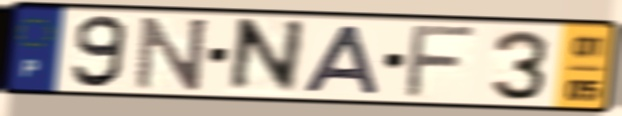3: (489, 27, 552, 102)
9: (71, 13, 130, 90)
A: (299, 22, 384, 97)
F: (401, 24, 483, 100)
N: (222, 16, 309, 96), (132, 14, 212, 92)
